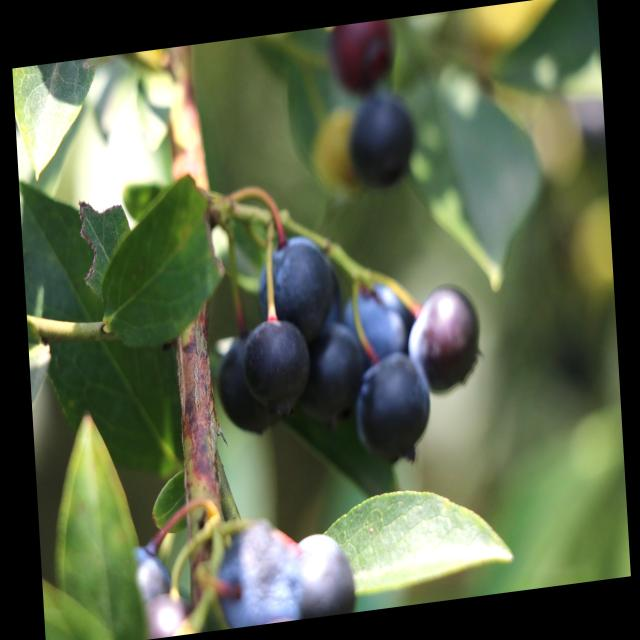blueberry: (347, 344, 435, 475), (406, 274, 492, 408), (208, 511, 304, 631), (255, 225, 342, 352), (340, 272, 420, 372), (350, 91, 428, 193), (240, 312, 314, 417), (287, 518, 359, 620), (305, 315, 368, 425), (216, 330, 272, 438)
